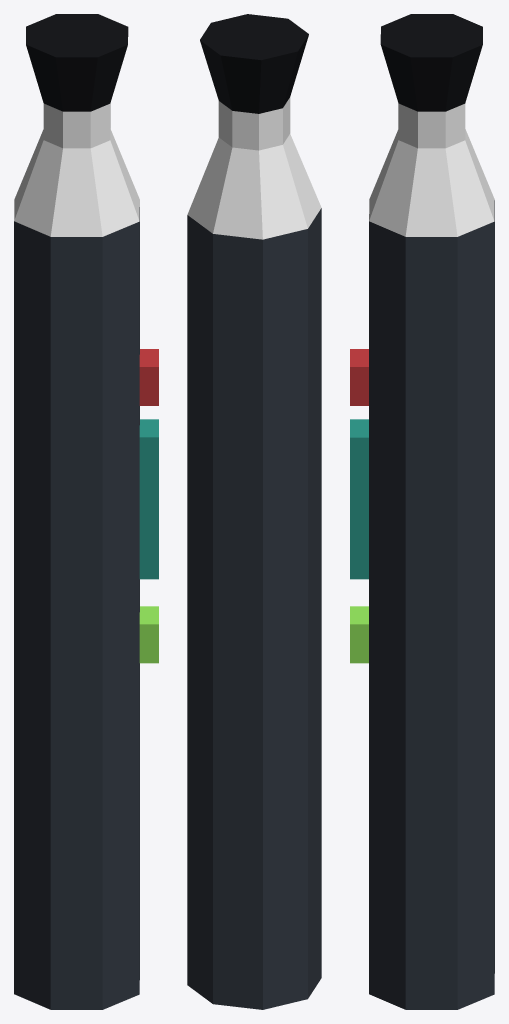
Rendered from vape.fbx.
3 renders of one model, left to right at view 1: azimuth 90°, elevation 25°; view 2: azimuth 210°, elevation 25°; view 3: azimuth 270°, elevation 25°, orthographic.
Visible parts, largest first — view 1: Cylinder.025; view 2: Cylinder.025; view 3: Cylinder.025.
Part boxes in pixels (bbox=[...]): Cylinder.025: bbox=[14, 14, 158, 1009]; Cylinder.025: bbox=[187, 14, 321, 1009]; Cylinder.025: bbox=[350, 14, 494, 1009].
Bounding box in the file's own units: 3.01 × 24.98 × 3.46.
